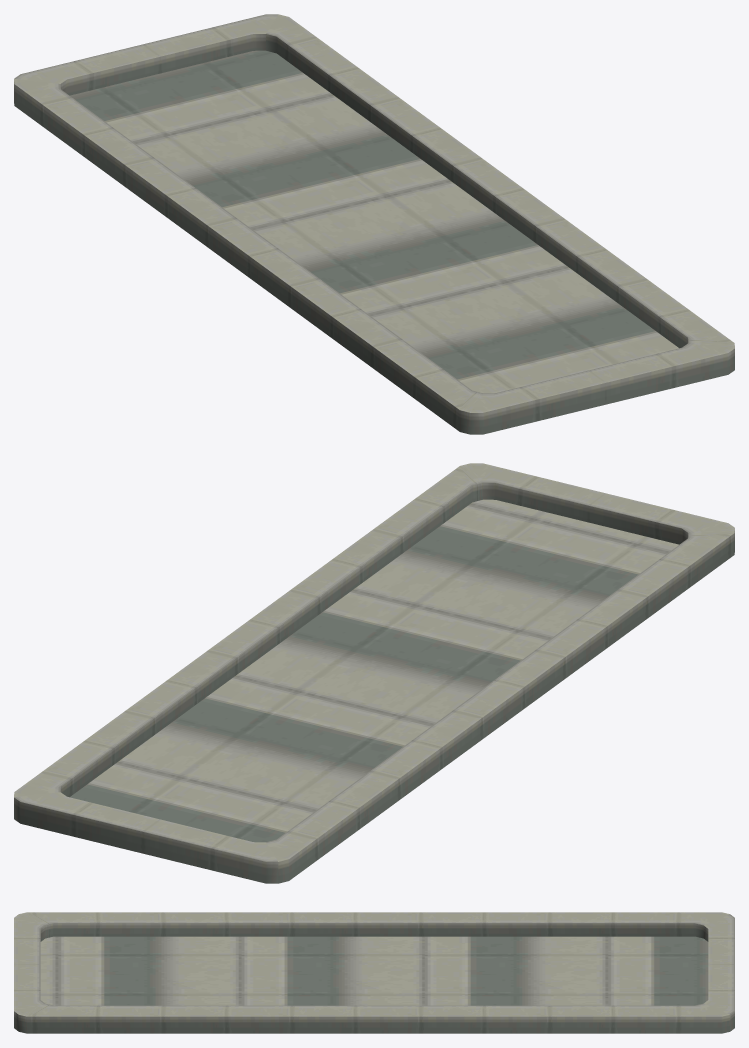
The model's file is 0178_T_ZhenYin_XiaoHuaTan.glb.
3 views of the same model, one above another, from view 1: azimuth 30°, elevation 25°; view 2: azimuth 150°, elevation 25°; view 3: azimuth 270°, elevation 25° (orthographic). The views are drawn at different scales.
Size of the model in its own units: 0.7547 by 0.0572 by 2.2.
Materials: 1 (1 with a texture image).
